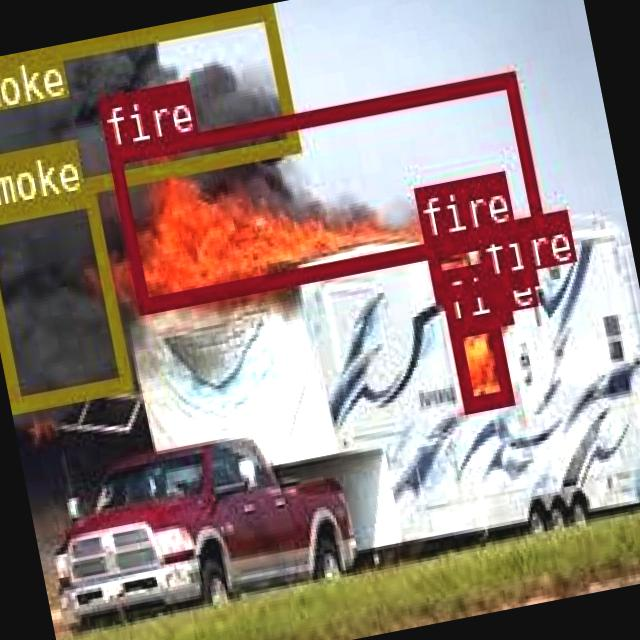fire: (105, 70, 542, 312), (422, 218, 536, 300), (446, 312, 510, 409), (484, 274, 509, 323)
smoke: (0, 4, 297, 213), (0, 187, 129, 409)
